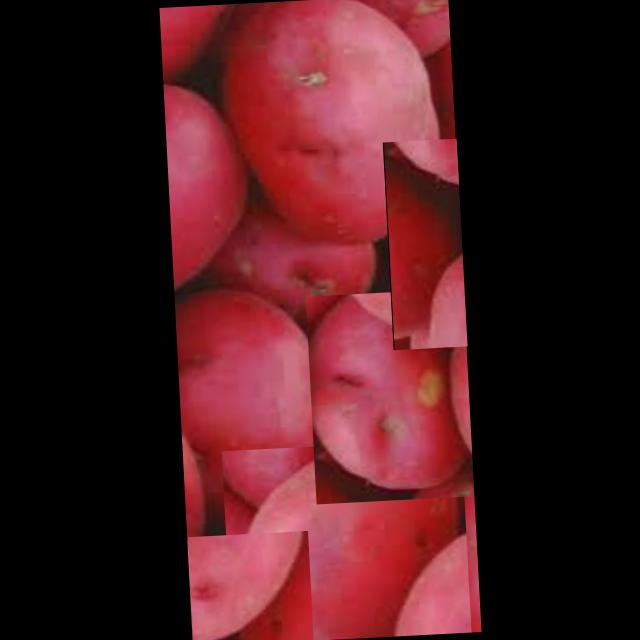Defected potato: (211, 0, 441, 254), (220, 439, 470, 640), (173, 274, 340, 537), (304, 288, 473, 504), (163, 72, 256, 295), (382, 138, 466, 350), (187, 531, 313, 640)
